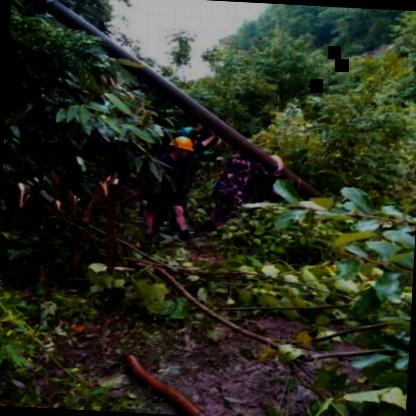helmet: (164, 132, 194, 162)
